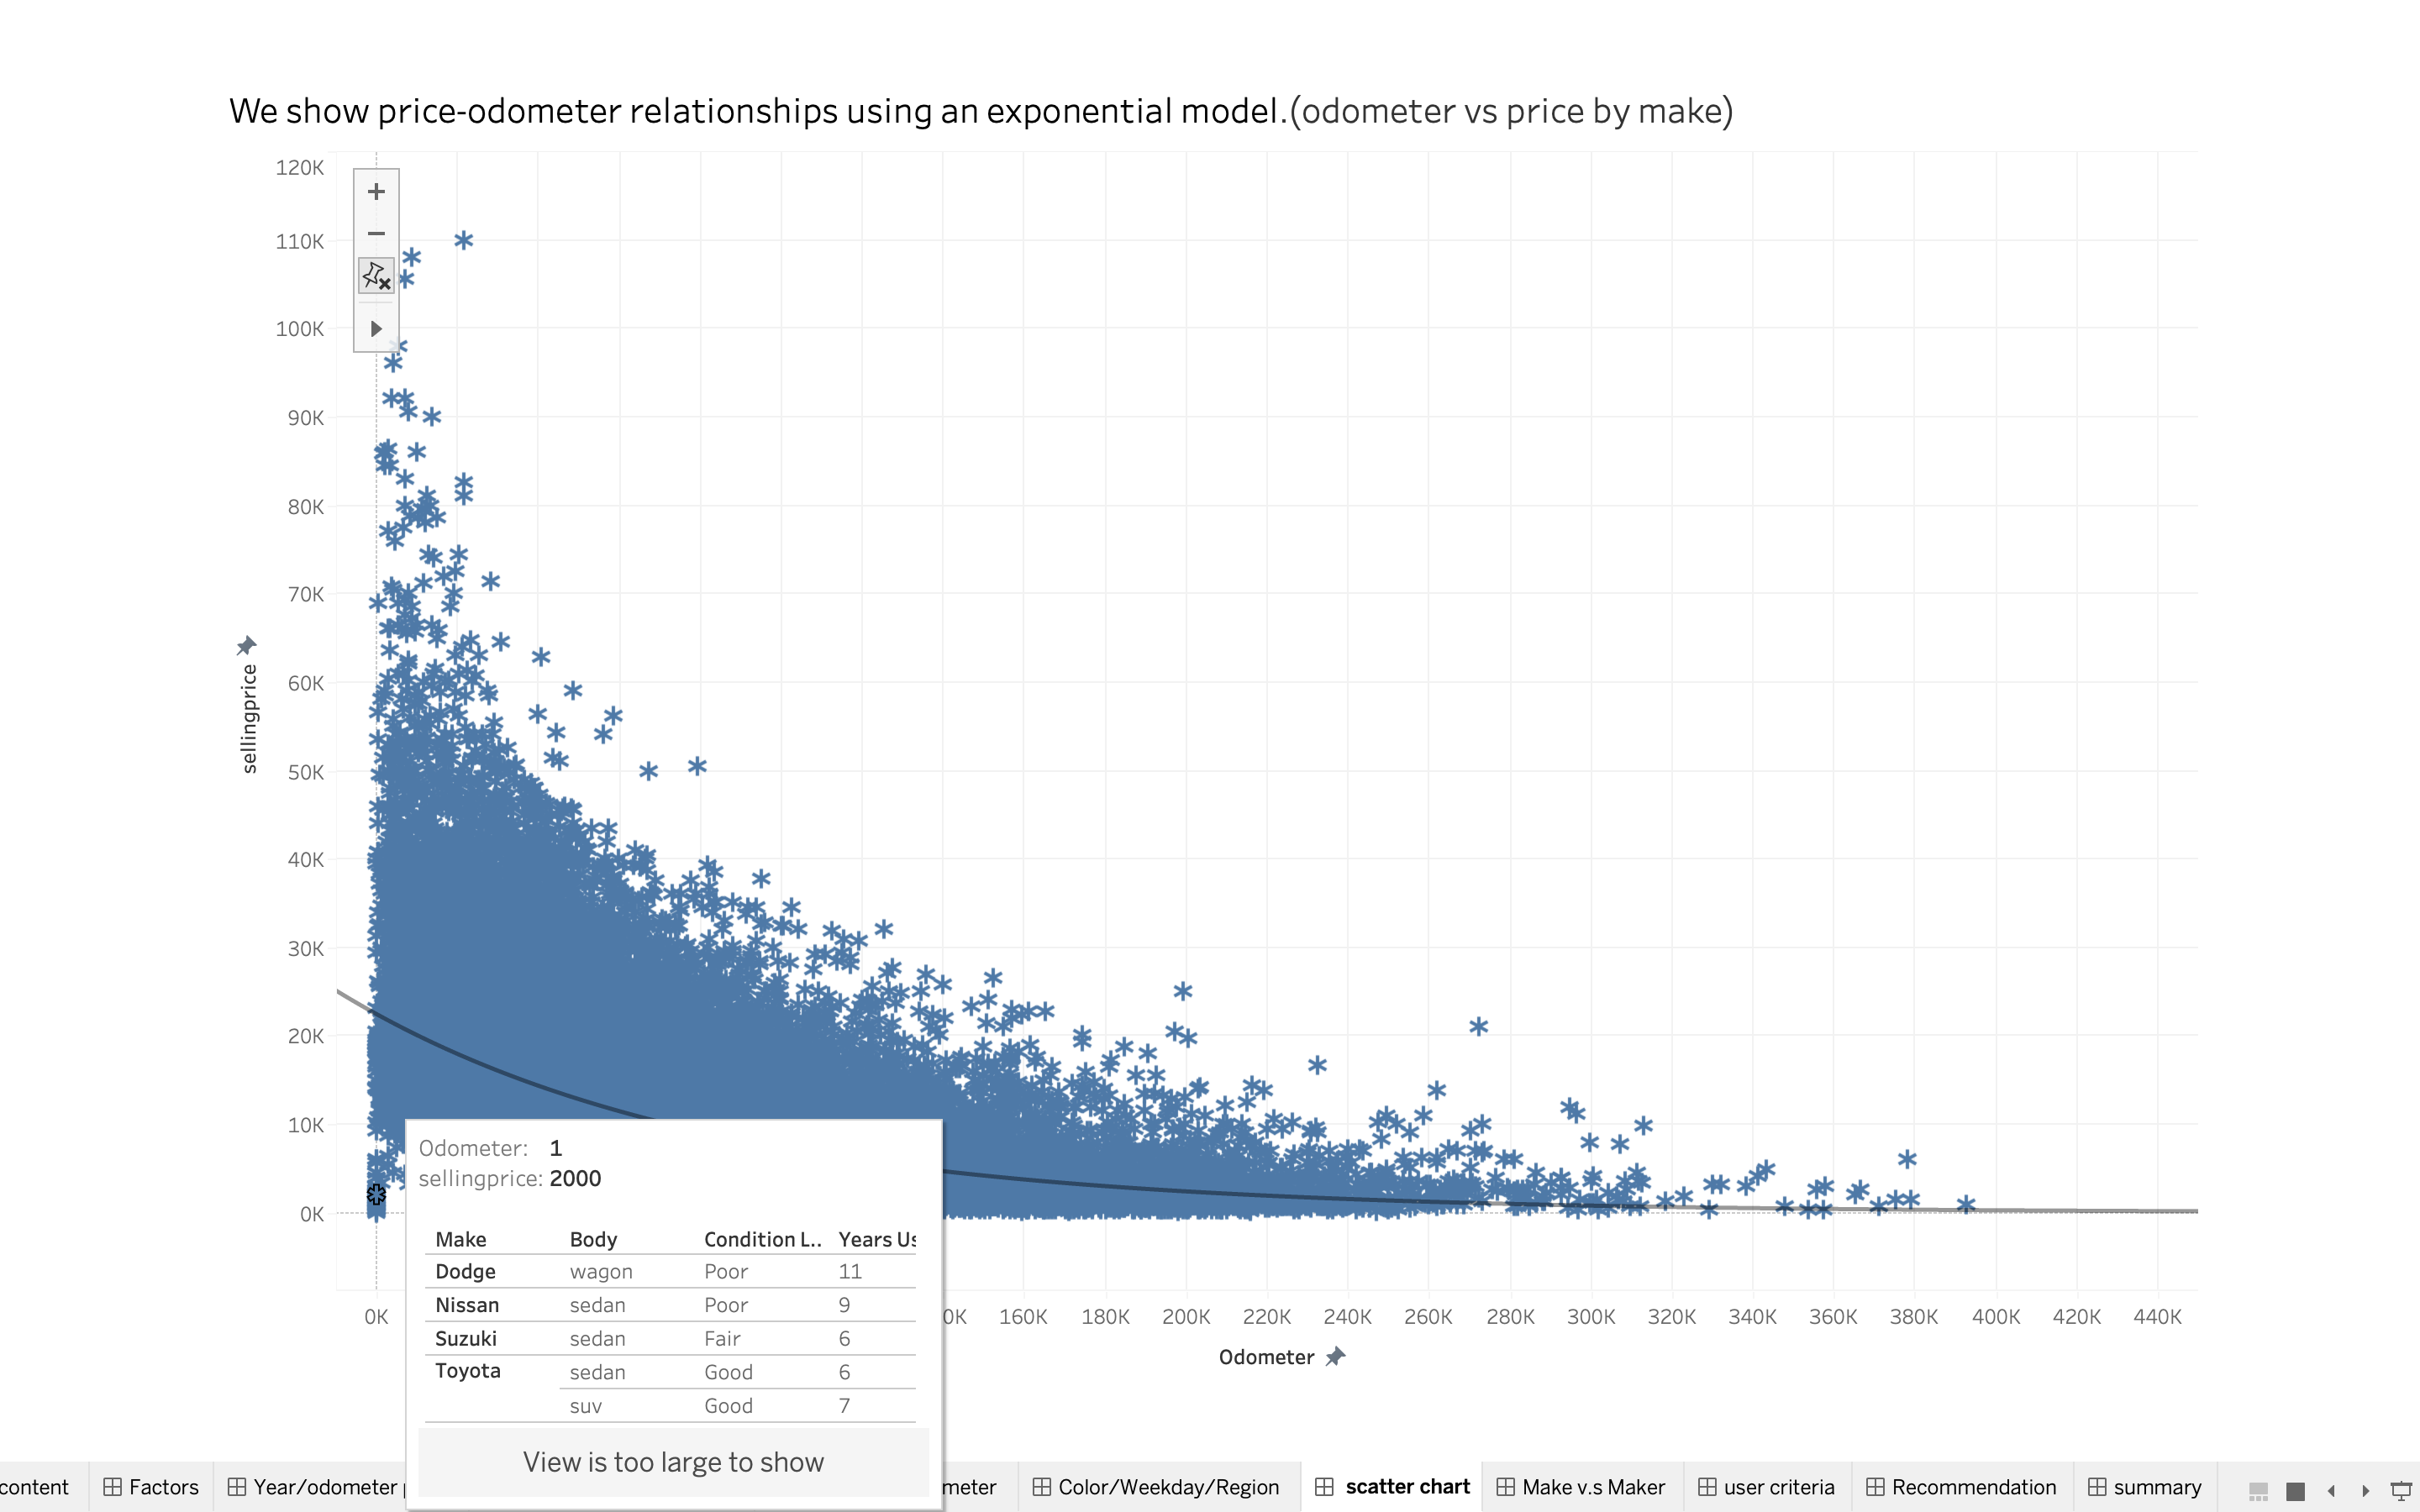

This screenshot's page, from the dashboard's own definition file:
{"tool":"tableau","page":{"name":" scatter chart","canvas":[1200,800],"ordinal":0},"visuals":[{"type":"worksheet","title":"odometer vs price by make","mark":"Automatic","rows":["sellingprice"],"cols":["odometer"],"box":[8,8,1184,784]}]}

Visuals, with their boxes on the page's 1200x800 design canvas (x1, y1, x2, y2). These are canvas units, not pixel positions in the 2420x1512 screenshot, which may show the page scaled, cropped or inside an application window:
"odometer vs price by make" worksheet: [8,8,1192,792]
